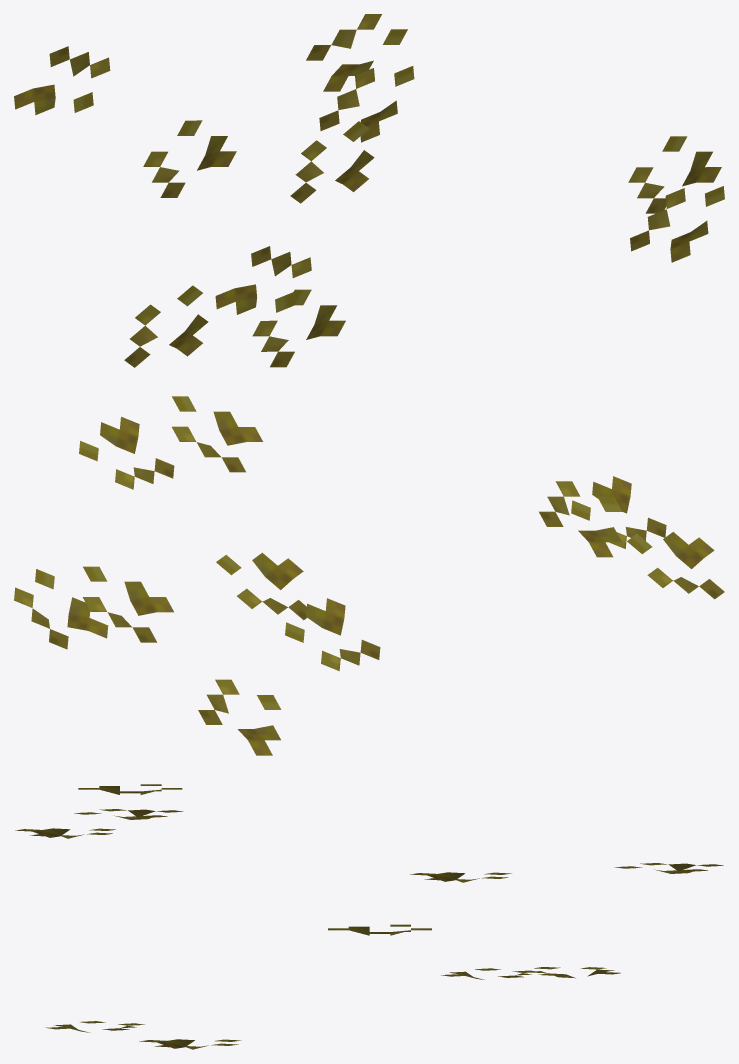
File: ObjMD_Grass_Hkoke.FBX
3 renders of one model, top to bottom at view 1: azimuth 30°, elevation 25°; view 2: azimuth 150°, elevation 25°; view 3: azimuth 270°, elevation 25°, orthographic. The views are drawn at different scales.
Parts seen in each view (by area): view 1: ObjMD_Grass_Hkoke; view 2: ObjMD_Grass_Hkoke; view 3: ObjMD_Grass_Hkoke.
Part boxes in pixels (x1,y1,x2,y2): ObjMD_Grass_Hkoke: (14, 14, 724, 367); ObjMD_Grass_Hkoke: (14, 396, 724, 755); ObjMD_Grass_Hkoke: (15, 784, 723, 1049).
Size of the model in its own units: 208 by 22.91 by 214.
